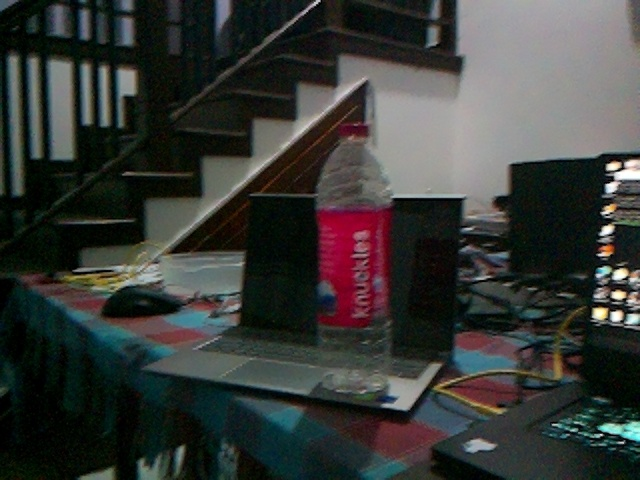bottle: (310, 120, 395, 399)
